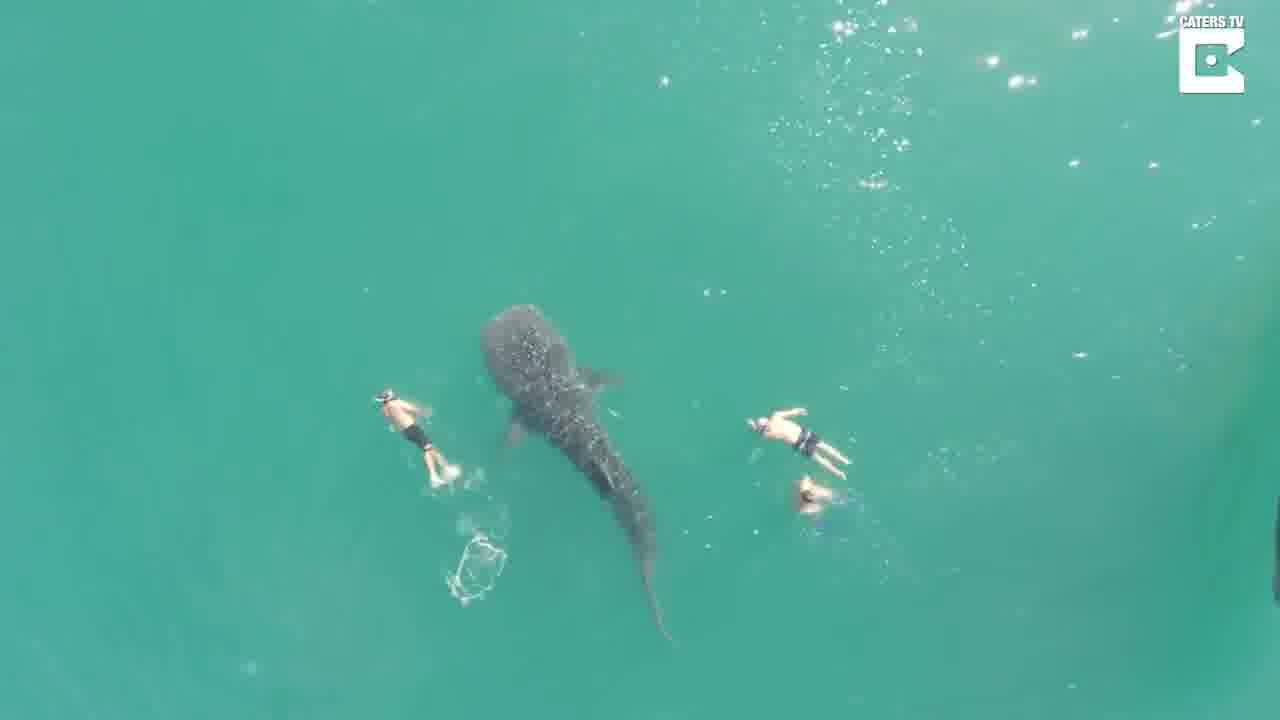human: (352, 378, 475, 494), (730, 394, 867, 474), (788, 474, 859, 529)
